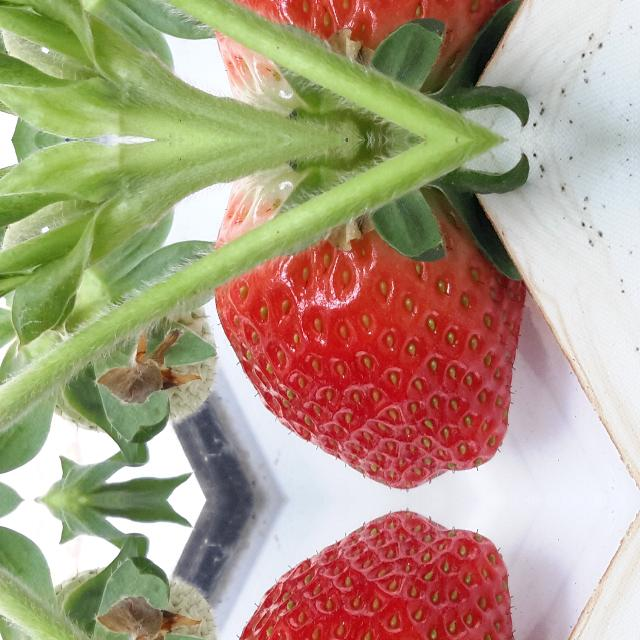Health_100: (214, 166, 526, 492), (213, 508, 526, 640), (213, 0, 526, 113)
